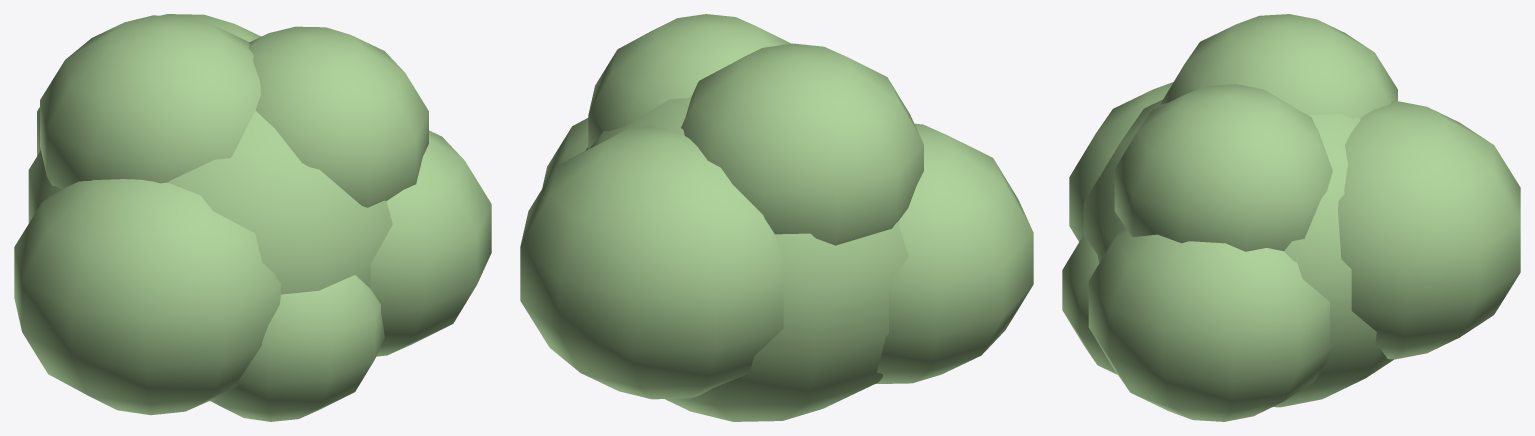
Rendered from tree_leaves_round.glb.
3 views of the same model, side by side, from view 1: azimuth 30°, elevation 25°; view 2: azimuth 150°, elevation 25°; view 3: azimuth 270°, elevation 25° (orthographic). The views are drawn at different scales.
Parts seen in each view (by area): view 1: tree_leaves_round; view 2: tree_leaves_round; view 3: tree_leaves_round.
Boxes of the visible parts, left/top/right/bottom form: tree_leaves_round: left=14, top=14, right=491, bottom=421; tree_leaves_round: left=520, top=14, right=1033, bottom=421; tree_leaves_round: left=1062, top=14, right=1520, bottom=421.
Size of the model in its own units: 3.73 by 2.86 by 3.51.
